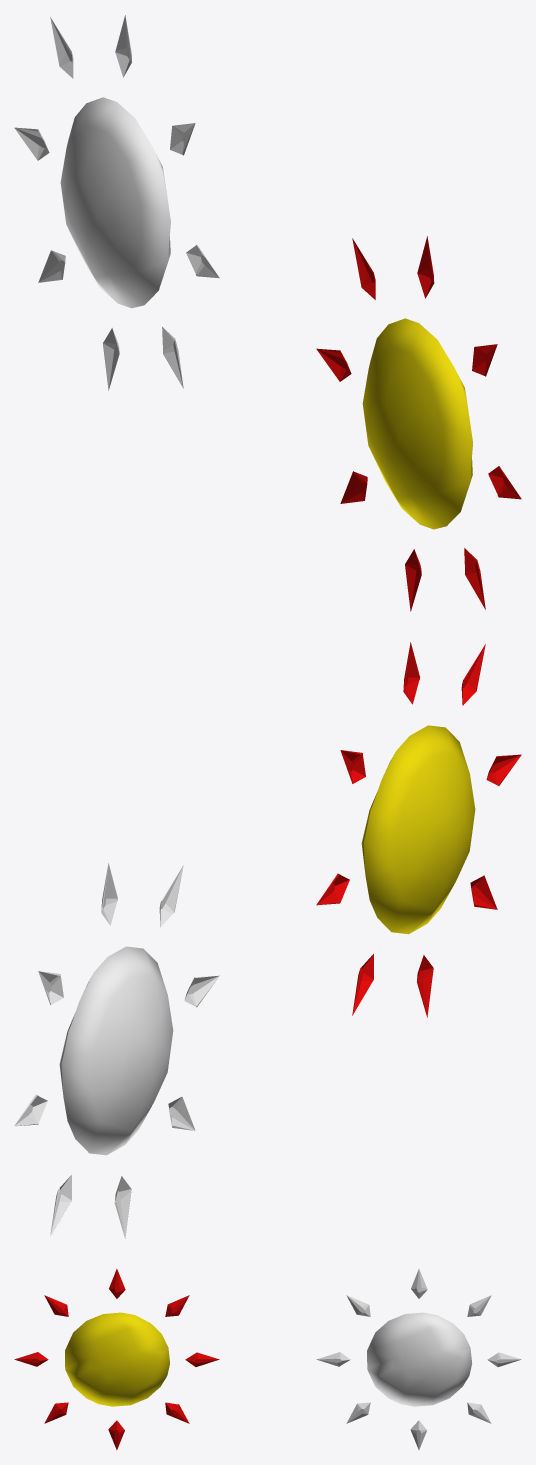
File: Sun1.gltf
3 renders of one model, top to bottom at view 1: azimuth 30°, elevation 25°; view 2: azimuth 150°, elevation 25°; view 3: azimuth 270°, elevation 25°, orthographic. The views are drawn at different scales.
Visible parts, largest first — view 1: Sun, Sun.001; view 2: Sun.001, Sun; view 3: Sun, Sun.001, Platonic.8, Platonic.016, Platonic.014, Platonic.009, Platonic.7, Platonic.3, Platonic.015, Platonic.4, Platonic.1, Platonic.013 (+6 smaller).
Part boxes in pixels (x1,y1,x2,y2): Sun: (60,97,170,308); Sun.001: (362,318,472,529); Sun.001: (361,725,475,934); Sun: (59,946,173,1155); Sun: (367,1312,472,1406); Sun.001: (65,1312,169,1406); Platonic.8: (185,1352,219,1366); Platonic.016: (467,1295,491,1316); Platonic.014: (346,1295,370,1316); Platonic.009: (487,1352,521,1366); Platonic.7: (165,1402,189,1423); Platonic.3: (44,1295,68,1316); Platonic.015: (411,1269,427,1298); Platonic.4: (14,1352,48,1366); Platonic.1: (165,1295,189,1316); Platonic.013: (316,1352,350,1366).
Bounding box in the file's own units: 4.69 × 25.24 × 62.34.
